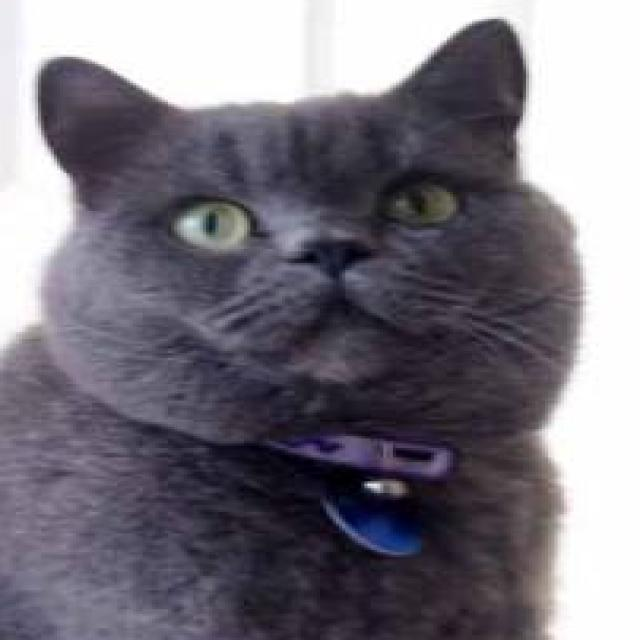British Shorthair: (0, 14, 586, 640)
